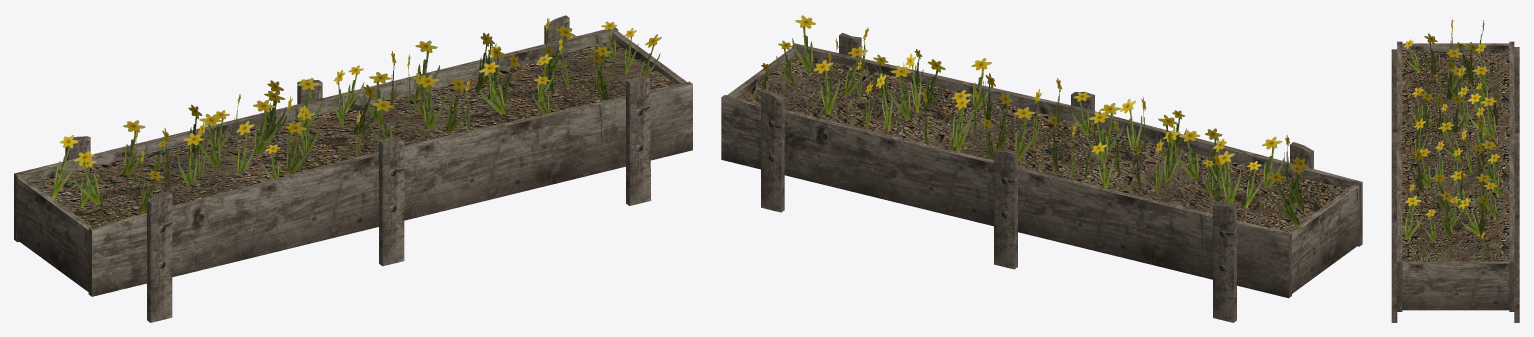
The model's file is Flowerbed_yellow.dae.
The picture shows the model from 3 angles, left to right: view 1: azimuth 30°, elevation 25°; view 2: azimuth 150°, elevation 25°; view 3: azimuth 270°, elevation 25°; orthographic projection. The views are drawn at different scales.
Visible parts, largest first — view 1: Flowerbed; view 2: Flowerbed; view 3: Flowerbed.
Boxes of the visible parts, x1=… form: Flowerbed: x1=14, y1=15, x2=692, y2=322; Flowerbed: x1=721, y1=15, x2=1362, y2=322; Flowerbed: x1=1391, y1=18, x2=1519, y2=322.
Size of the model in its own units: 3.2 by 0.7724 by 0.7902.
Materials: 1 (1 with a texture image).
